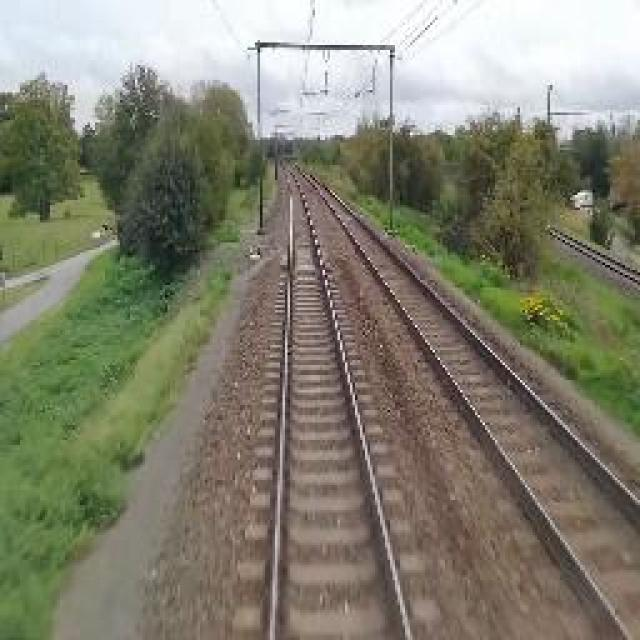rail: (237, 162, 455, 640)
